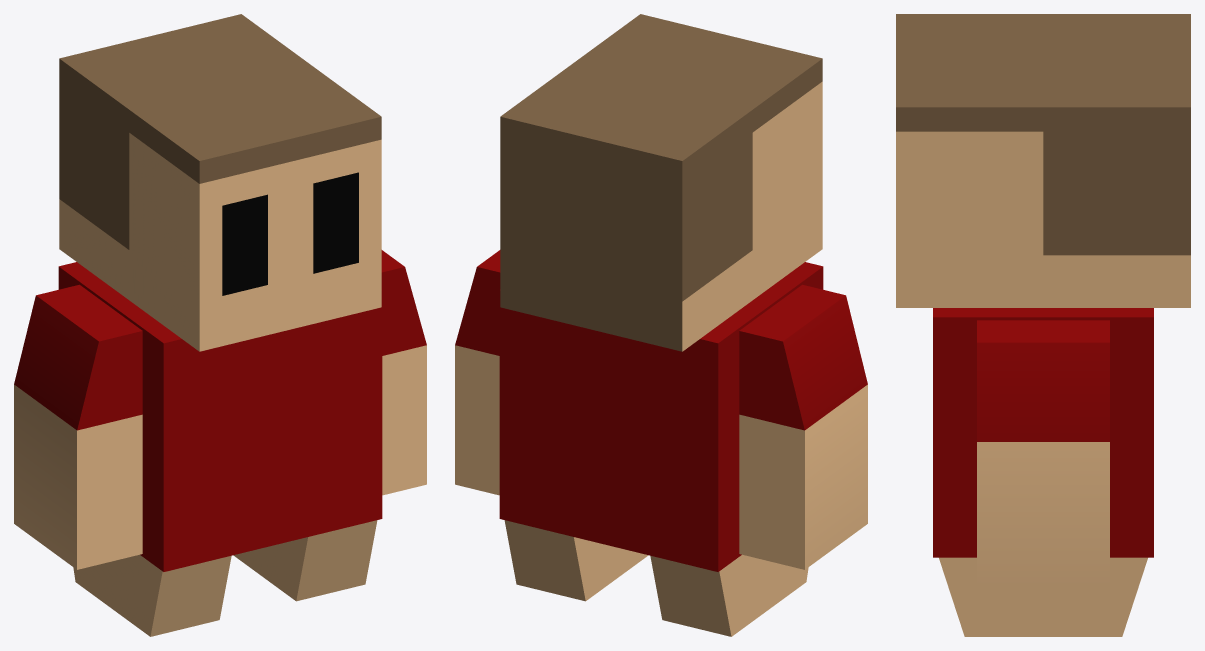
The model's file is Character.fbx.
The picture shows the model from 3 angles, left to right: view 1: azimuth 30°, elevation 25°; view 2: azimuth 150°, elevation 25°; view 3: azimuth 270°, elevation 25°; orthographic projection. The views are drawn at different scales.
Parts seen in each view (by area): view 1: pCube1; view 2: pCube1; view 3: pCube1.
Part boxes in pixels (x1,y1,x2,y2): pCube1: (14, 14, 426, 636); pCube1: (455, 14, 867, 636); pCube1: (896, 14, 1190, 636).
Size of the model in its own units: 115 by 156 by 80.
